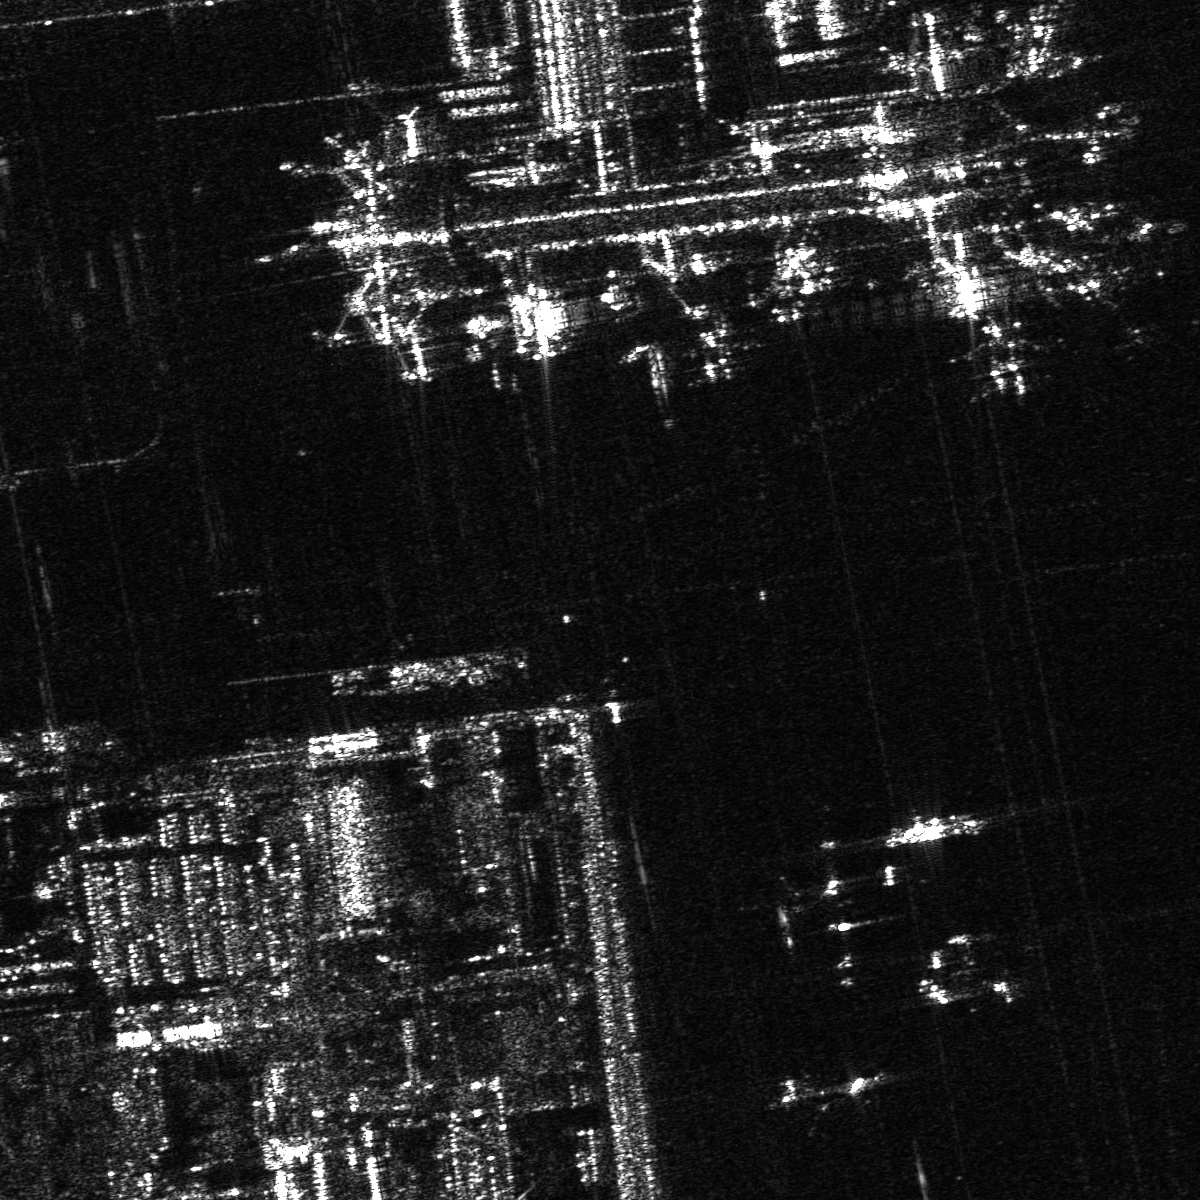Boeing737: (951, 313, 1054, 401)
